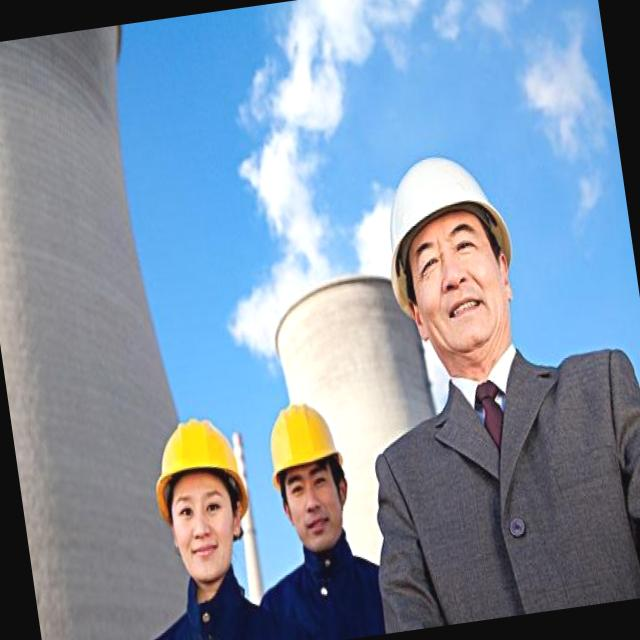helmet: (370, 146, 520, 314), (148, 414, 242, 492), (264, 392, 338, 479)
no-vest: (378, 359, 640, 630), (266, 545, 386, 640), (110, 576, 271, 640)
